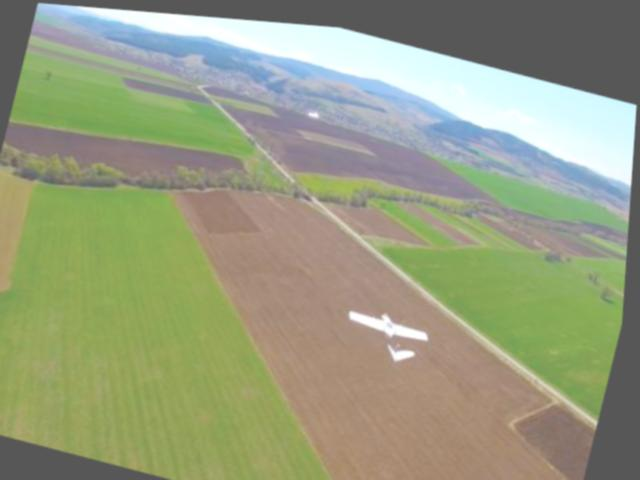uav: (337, 287, 442, 365)
